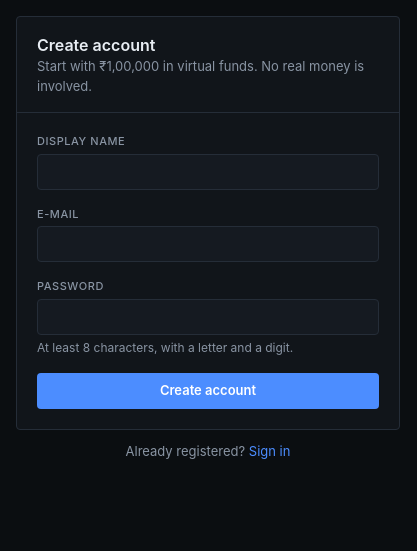
Scenario: RegisterPage › maps server field errors onto the form
Step 1. Type "Asha Trader" into the field labelled "Display name" → (208, 172), box x1=37 y1=154 x2=379 y2=190
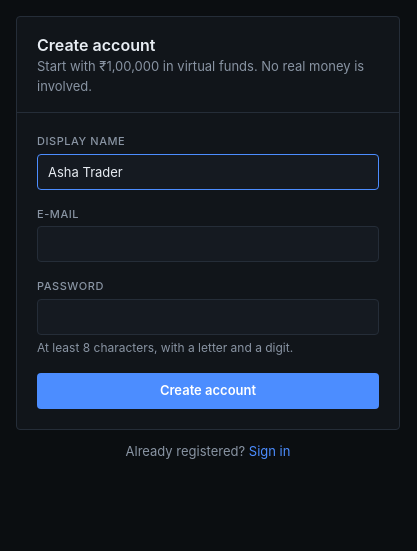
Step 2. Type "asha@example.com" into the field labelled "E-mail" → (208, 244), box x1=37 y1=226 x2=379 y2=262
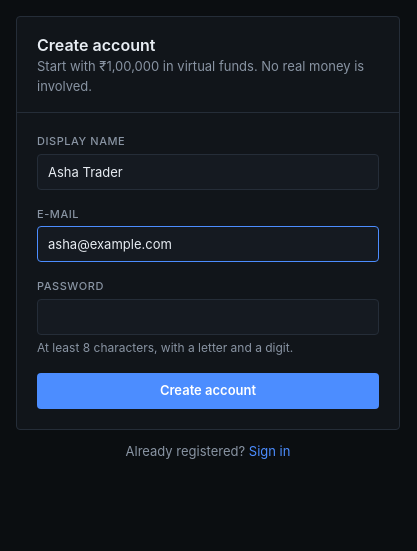
Step 3. Type "Password1" into the password field labelled "Password" → (208, 316), box x1=37 y1=298 x2=379 y2=334
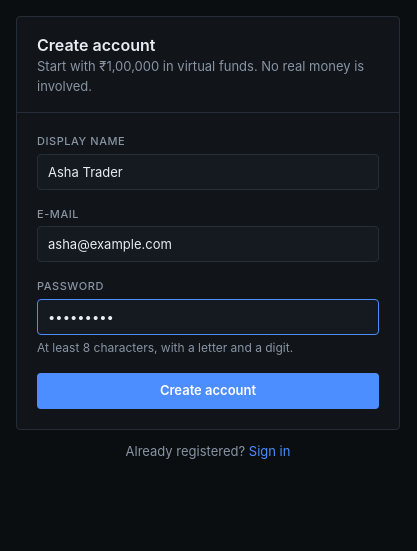
Step 4. Click the button "Create account" → (208, 390), box x1=37 y1=372 x2=379 y2=408
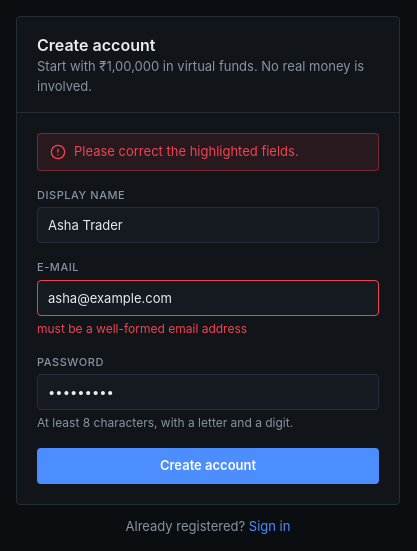
Expected: the text "must be a well-formed email address" is shown, x1=37 y1=320 x2=247 y2=336
